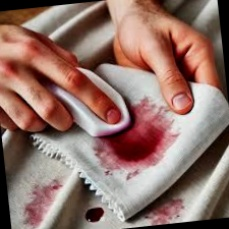wine: (88, 101, 172, 164), (27, 180, 65, 225), (140, 192, 185, 227), (82, 205, 105, 225)
